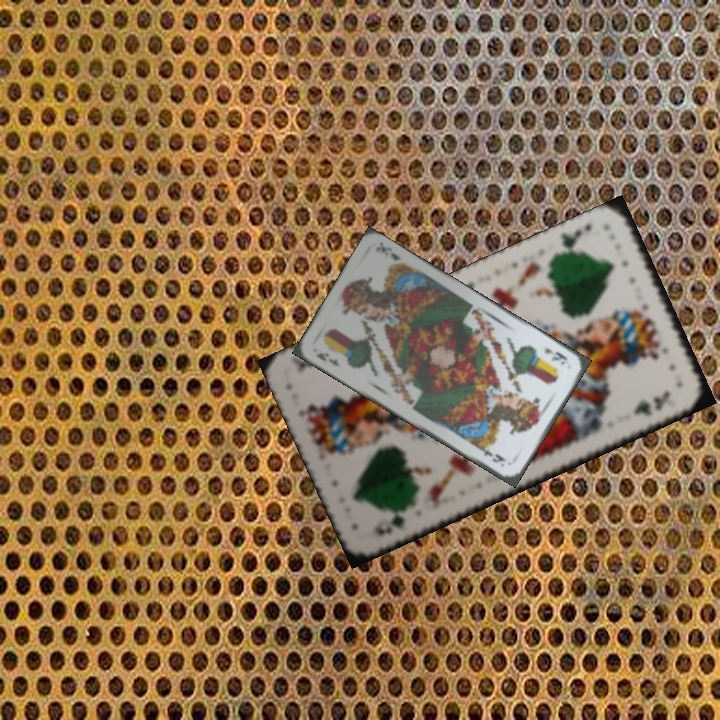EK: (540, 344, 570, 368), (312, 348, 342, 369)
GK: (371, 502, 416, 538), (553, 219, 595, 257)
